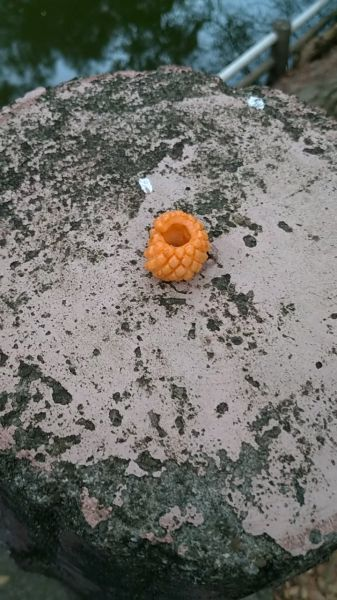eggs: (141, 208, 210, 284)
